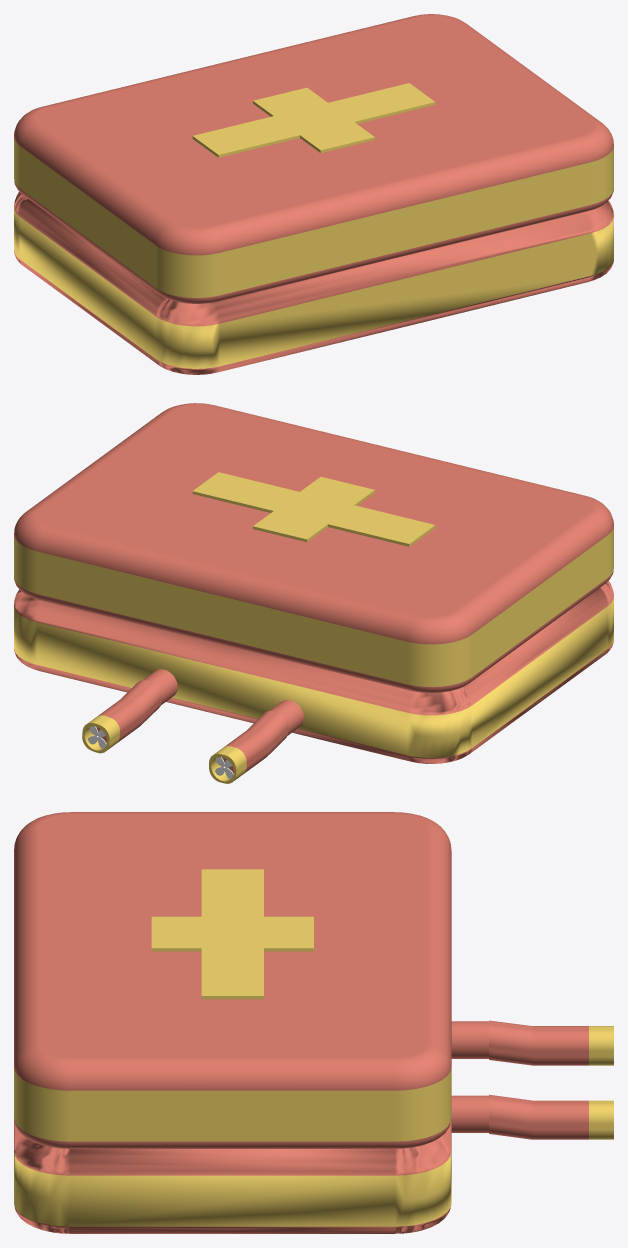
3 renders of one model, top to bottom at view 1: azimuth 30°, elevation 25°; view 2: azimuth 150°, elevation 25°; view 3: azimuth 270°, elevation 25°, orthographic. The views are drawn at different scales.
Visible parts, largest first — view 1: Body35, Body34; view 2: Body35, Body34, 공기관1, 공기관1 (1), 팬커버, 팬커버 (1), 공기관2, 공기관2 (1); view 3: Body35, Body34, 공기관1 (1), 공기관1, 공기관2 (1), 공기관2, 팬커버, 팬커버 (1).
Part boxes in pixels (left/top/right/bottom): Body35: left=14, top=14, right=613, bottom=303; Body34: left=14, top=191, right=613, bottom=374; Body35: left=14, top=403, right=613, bottom=692; Body34: left=14, top=581, right=613, bottom=763; 공기관1: left=96, top=680, right=161, bottom=742; 공기관1 (1): left=222, top=711, right=288, bottom=773; 팬커버: left=82, top=715, right=119, bottom=753; 팬커버 (1): left=209, top=746, right=246, bottom=783; 공기관2: left=143, top=669, right=177, bottom=704; 공기관2 (1): left=269, top=700, right=303, bottom=735; Body35: left=14, top=812, right=451, bottom=1148; Body34: left=14, top=1118, right=451, bottom=1233; 공기관1 (1): left=489, top=1020, right=588, bottom=1065; 공기관1: left=489, top=1094, right=588, bottom=1139; 공기관2 (1): left=451, top=1021, right=488, bottom=1058; 공기관2: left=451, top=1095, right=488, bottom=1132; 팬커버: left=589, top=1100, right=613, bottom=1139; 팬커버 (1): left=589, top=1026, right=613, bottom=1065.
Size of the model in its own units: 50 by 15.3 by 48.
